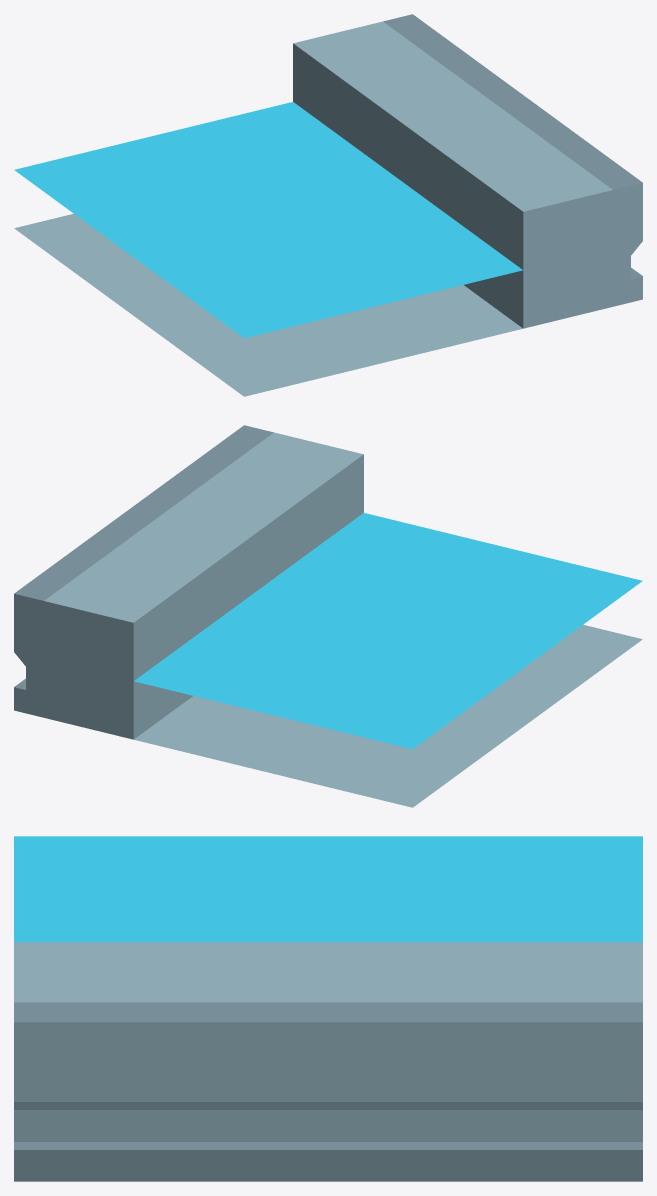
Rendered from fountainEdge.dae.
The picture shows the model from 3 angles, top to bottom: view 1: azimuth 30°, elevation 25°; view 2: azimuth 150°, elevation 25°; view 3: azimuth 270°, elevation 25°; orthographic projection. The views are drawn at different scales.
Visible parts, largest first — view 1: fountainEdge; view 2: fountainEdge; view 3: fountainEdge.
Part boxes in pixels (<box>): fountainEdge: <box>14,14,642,396</box>; fountainEdge: <box>14,425,642,807</box>; fountainEdge: <box>14,836,642,1181</box>.
Size of the model in its own units: 1 by 0.28 by 1.
